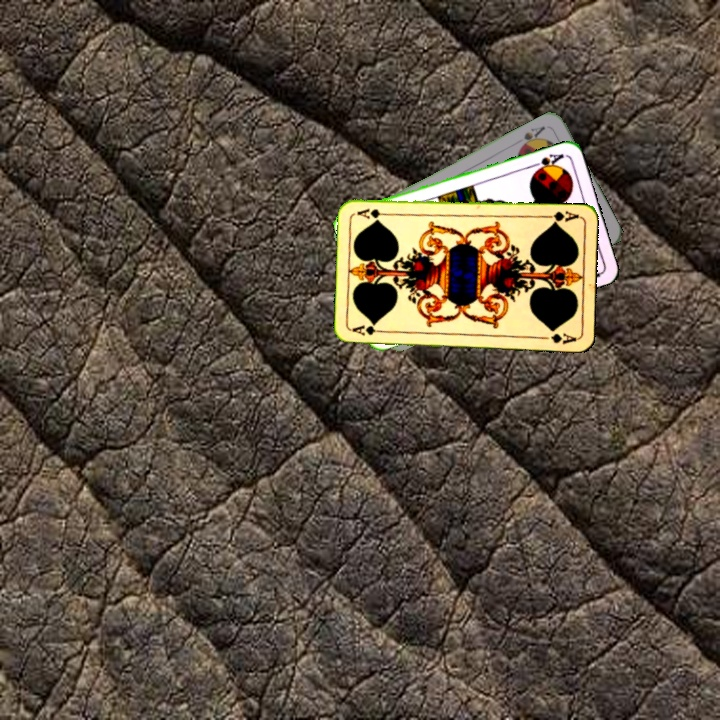GA: (541, 207, 581, 226), (348, 321, 389, 338)
SA: (527, 149, 567, 175), (516, 122, 548, 151)
